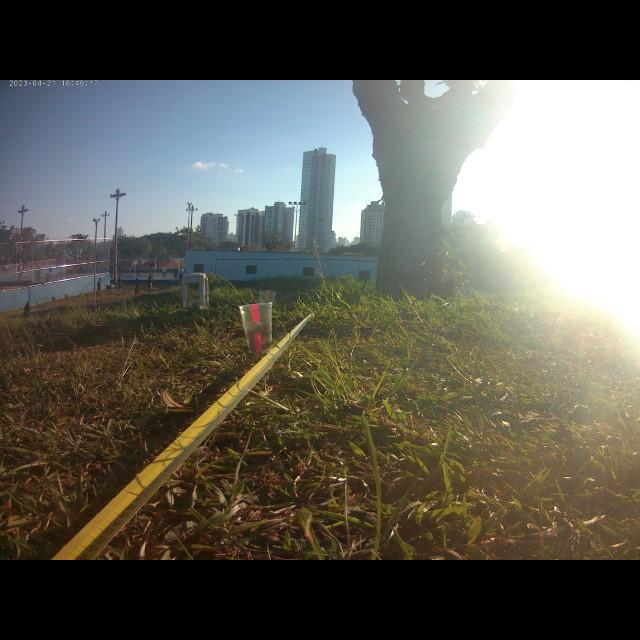arvore: (349, 84, 499, 298)
